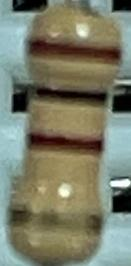Black: (29, 83, 109, 108)
Brown: (27, 38, 119, 64), (23, 130, 102, 156)
Side-Gold: (7, 206, 99, 234)
